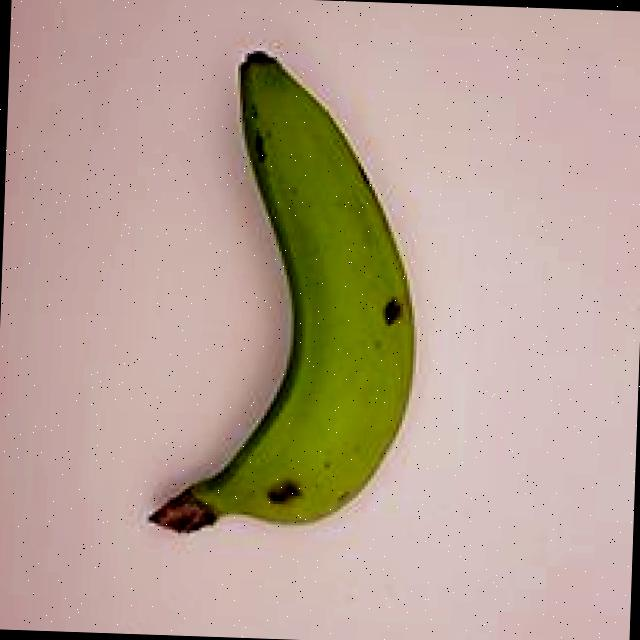Raw: (132, 28, 449, 556)
